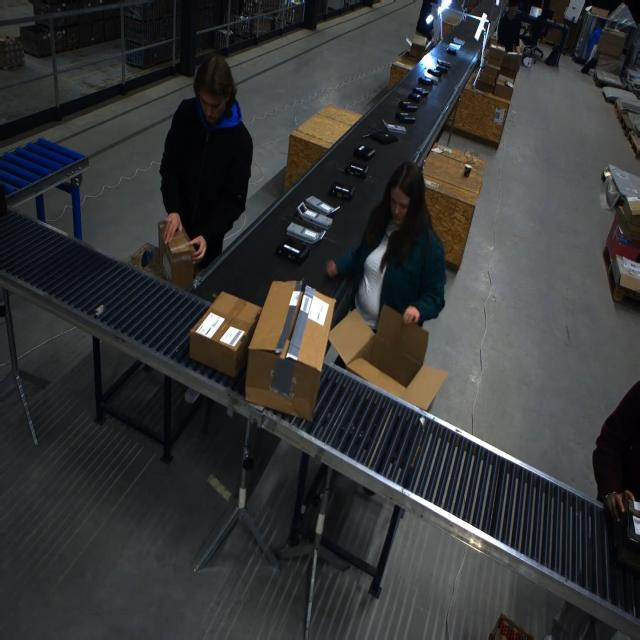box: (330, 303, 444, 408), (242, 280, 328, 419), (189, 291, 260, 376), (158, 221, 196, 290), (408, 34, 427, 58)
product: (275, 238, 311, 265), (287, 222, 325, 246), (303, 196, 338, 218), (344, 161, 369, 179), (329, 182, 354, 200), (353, 145, 376, 161), (382, 120, 405, 133), (396, 112, 416, 123), (398, 101, 417, 111), (418, 75, 434, 85), (413, 87, 428, 97), (436, 58, 451, 68), (408, 92, 422, 102), (434, 63, 448, 73), (427, 66, 440, 75), (446, 45, 458, 54), (452, 37, 465, 45)
